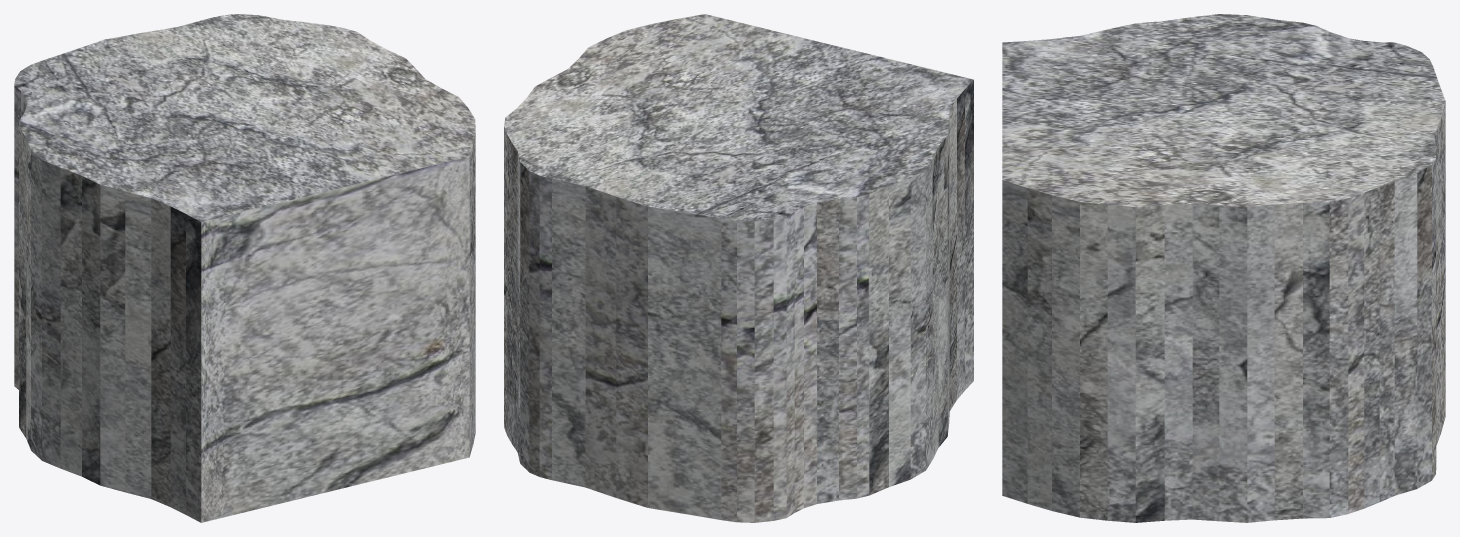
Rendered from base_pedra.fbx.
3 renders of one model, left to right at view 1: azimuth 30°, elevation 25°; view 2: azimuth 150°, elevation 25°; view 3: azimuth 270°, elevation 25°, orthographic. The views are drawn at different scales.
Visible parts, largest first — view 1: Object_1; view 2: Object_1; view 3: Object_1.
Part boxes in pixels (x1=…): Object_1: x1=14, y1=14, x2=475, y2=522; Object_1: x1=504, y1=14, x2=973, y2=522; Object_1: x1=1002, y1=14, x2=1445, y2=522.
Size of the model in its own units: 128 by 124 by 97.79.
Materials: 1 (1 with a texture image).
